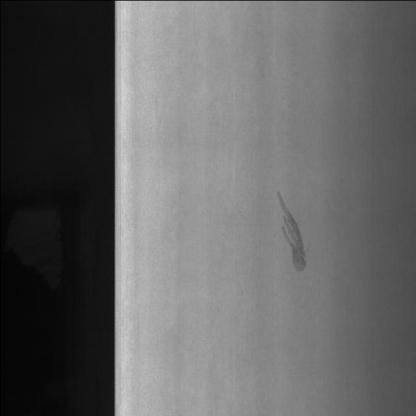water_spot: (273, 180, 317, 284), (272, 177, 312, 288)
